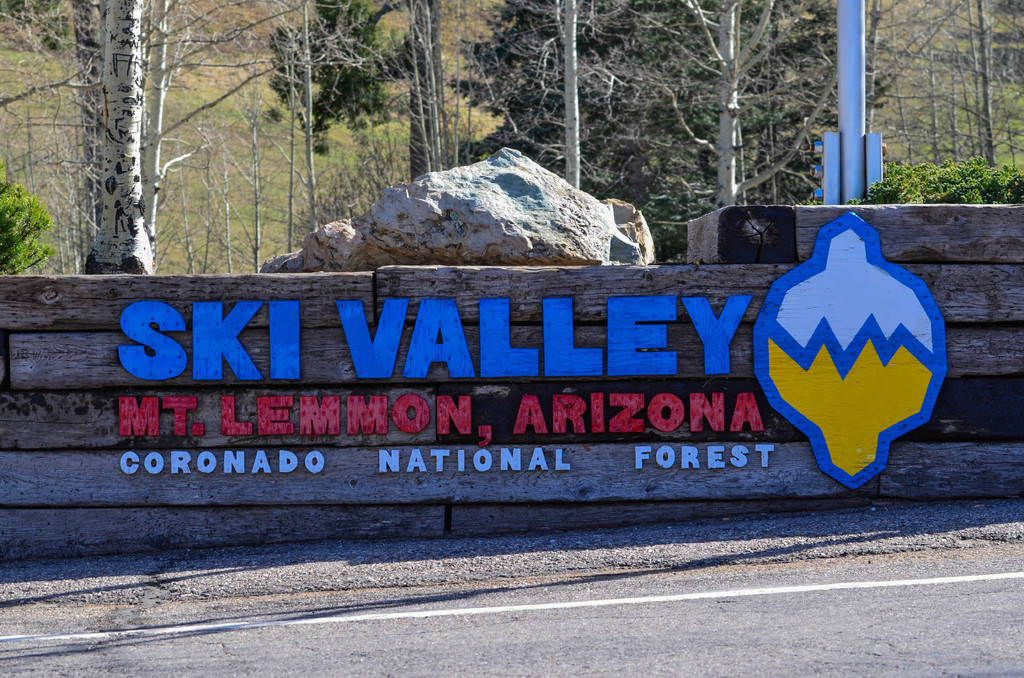Tree: (262, 0, 886, 256), (78, 0, 154, 268)
